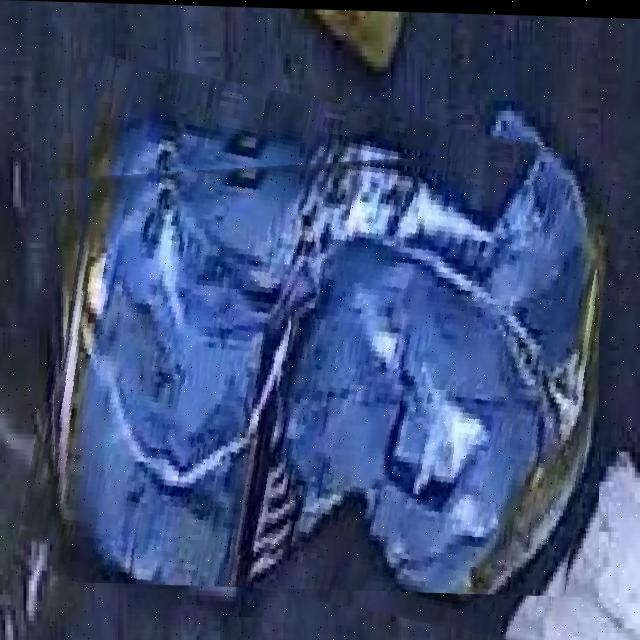litter: (55, 146, 599, 591)
